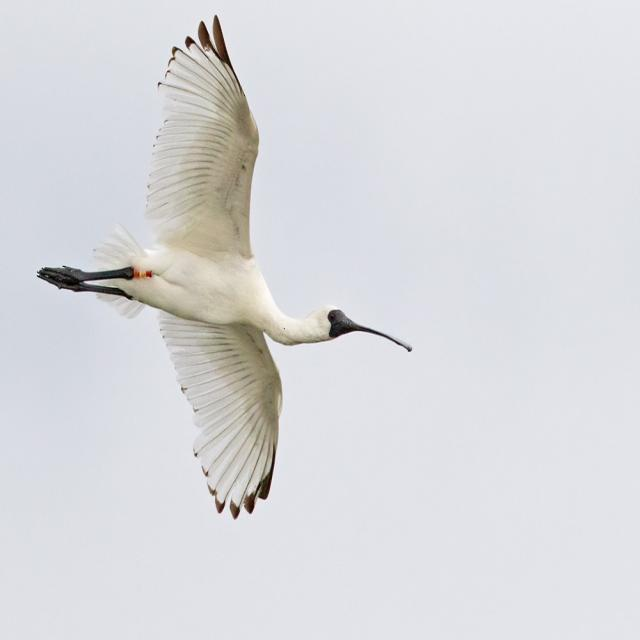Black-faced spoonbill: (38, 18, 411, 517)
